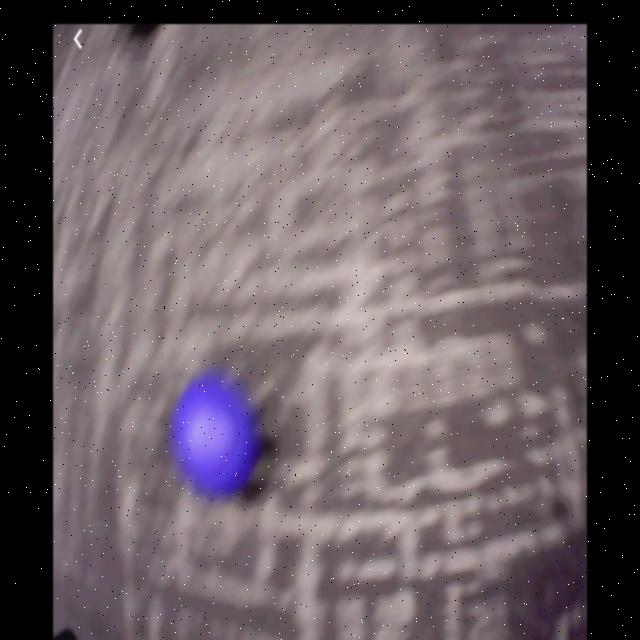ball: (175, 376, 250, 501)
